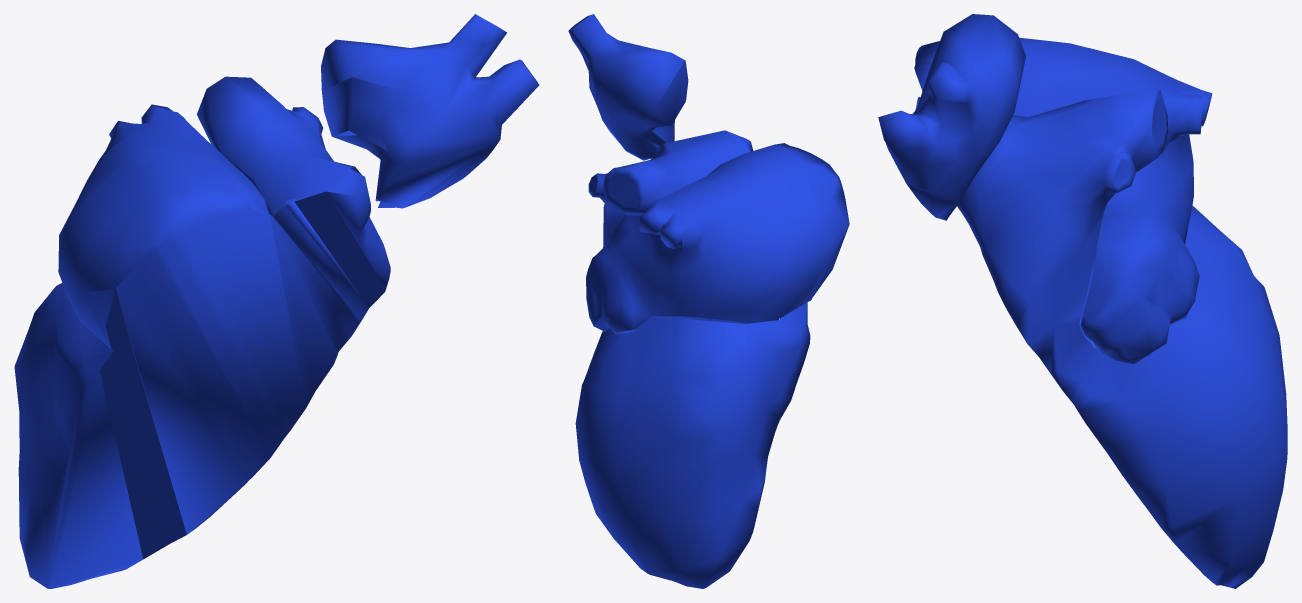
Rendered from heart.fbx.
The picture shows the model from 3 angles, left to right: view 1: azimuth 30°, elevation 25°; view 2: azimuth 150°, elevation 25°; view 3: azimuth 270°, elevation 25°; orthographic projection. The views are drawn at different scales.
Visible parts, largest first — view 1: coeur; view 2: coeur; view 3: coeur.
Boxes of the visible parts, x1,y1,x2,y2 form: coeur: [14, 14, 539, 588]; coeur: [568, 14, 849, 588]; coeur: [878, 14, 1287, 588].
Size of the model in its own units: 194 by 283 by 164.
